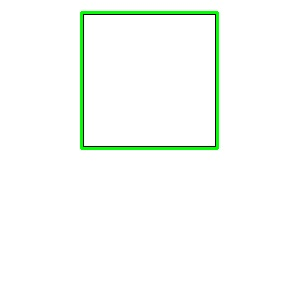line_segment: (80, 11, 219, 150)
